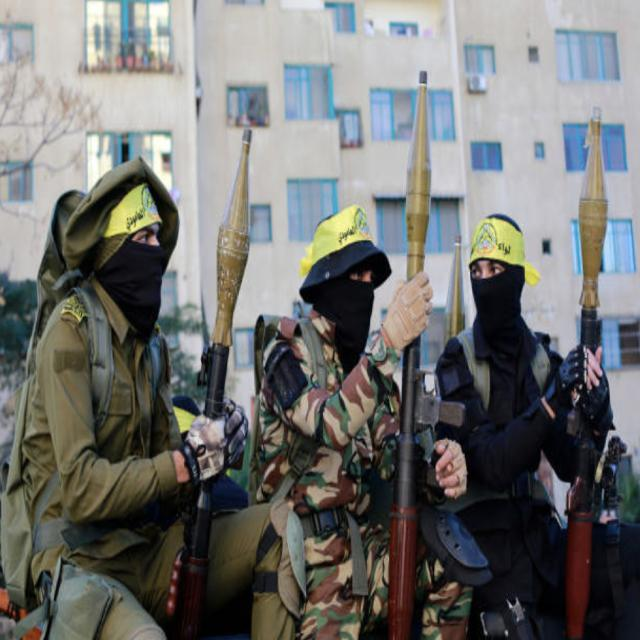bazooka: (389, 55, 478, 640), (179, 105, 262, 613), (558, 121, 625, 628)
